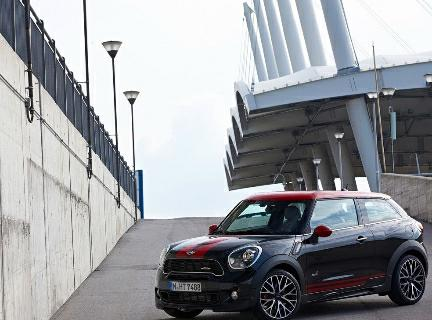MINI-JCWPACEMAN: (151, 193, 432, 319)
